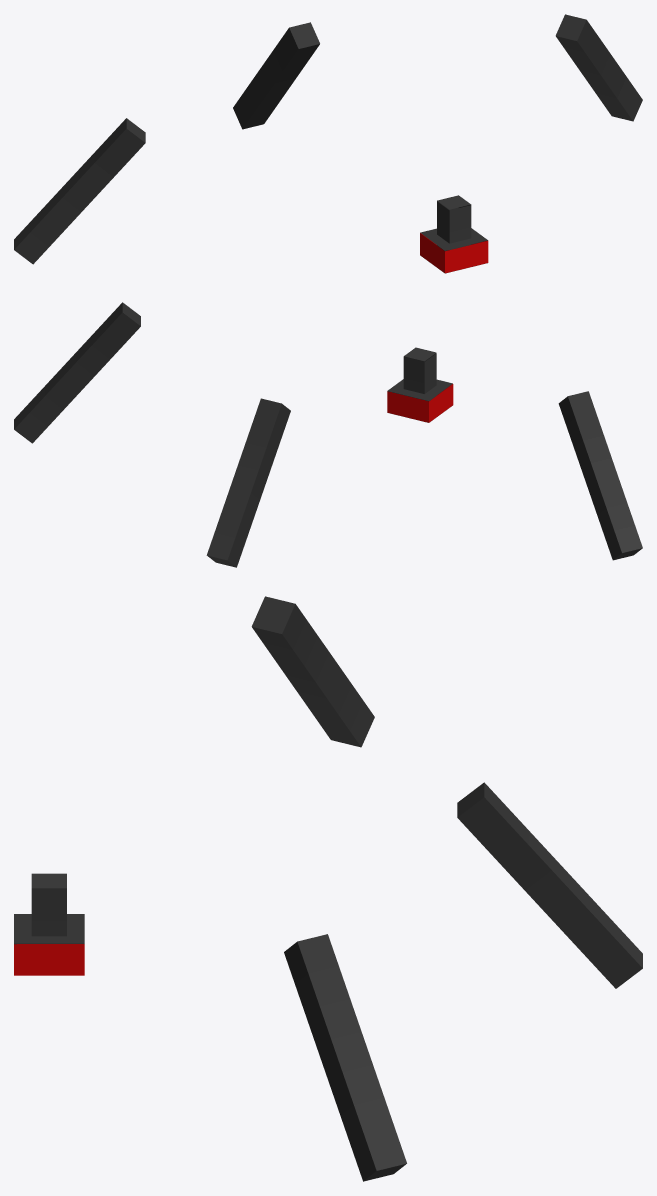
File: sentryTurret.obj
The picture shows the model from 3 angles, top to bottom: view 1: azimuth 30°, elevation 25°; view 2: azimuth 150°, elevation 25°; view 3: azimuth 270°, elevation 25°; orthographic projection. The views are drawn at different scales.
Bounding box in the file's own units: 1.85 × 0.4155 × 1.11.
